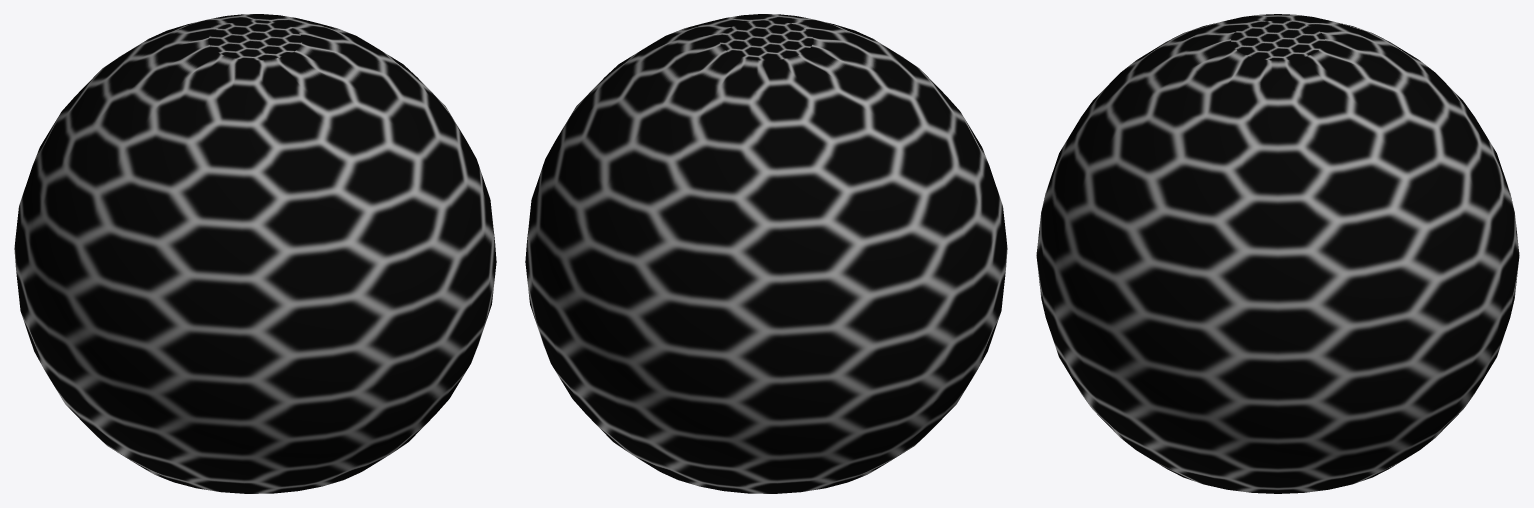
Rendered from FORCE field.fbx.
3 views of the same model, side by side, from view 1: azimuth 30°, elevation 25°; view 2: azimuth 150°, elevation 25°; view 3: azimuth 270°, elevation 25° (orthographic).
Parts seen in each view (by area): view 1: Sphere; view 2: Sphere; view 3: Sphere.
Part boxes in pixels (x1=…): Sphere: x1=14, y1=14, x2=496, y2=493; Sphere: x1=525, y1=14, x2=1007, y2=493; Sphere: x1=1036, y1=14, x2=1519, y2=493.
Size of the model in its own units: 200 by 181 by 200.
